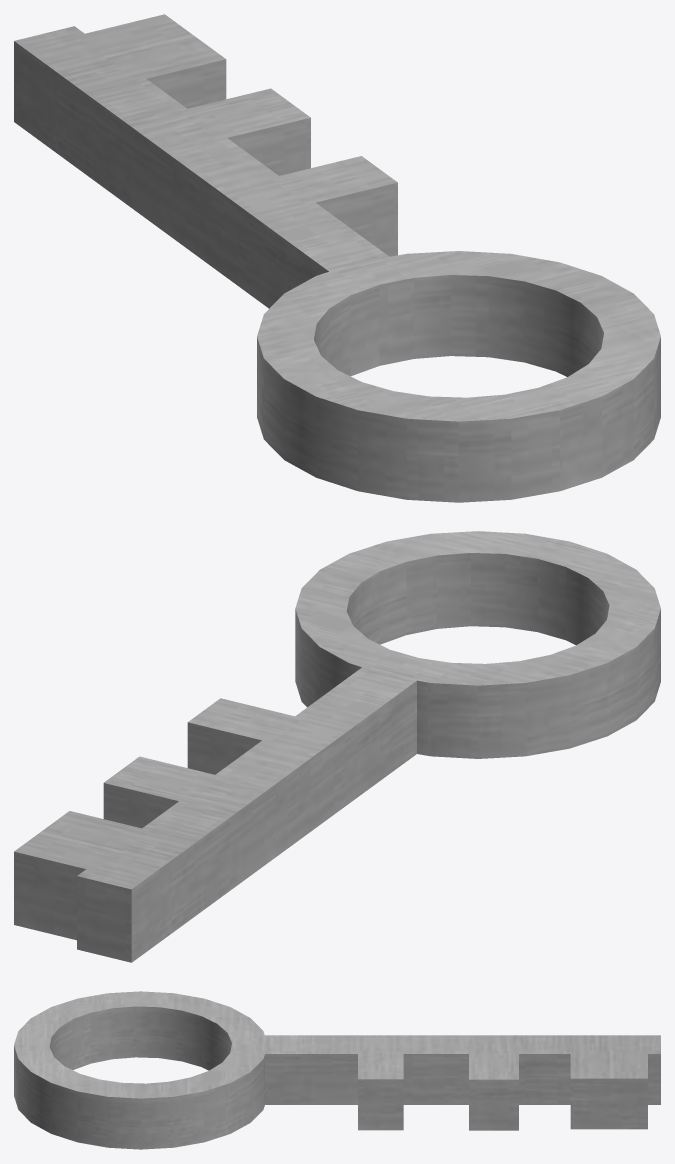
File: key.obj
3 views of the same model, one above another, from view 1: azimuth 30°, elevation 25°; view 2: azimuth 150°, elevation 25°; view 3: azimuth 270°, elevation 25° (orthographic). The views are drawn at different scales.
Parts seen in each view (by area): view 1: Mesh1 Model; view 2: Mesh1 Model; view 3: Mesh1 Model.
Part boxes in pixels (x1=…): Mesh1 Model: x1=14, y1=14, x2=660, y2=502; Mesh1 Model: x1=14, y1=531, x2=660, y2=962; Mesh1 Model: x1=14, y1=991, x2=660, y2=1149.
Bounding box in the file's own units: 0.3757 × 0.0832 × 0.9577.
